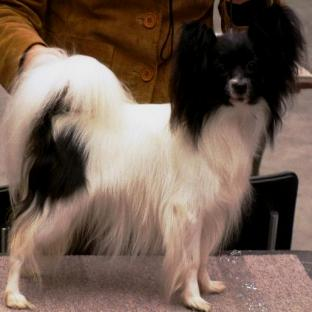Animal: (2, 1, 304, 310)
